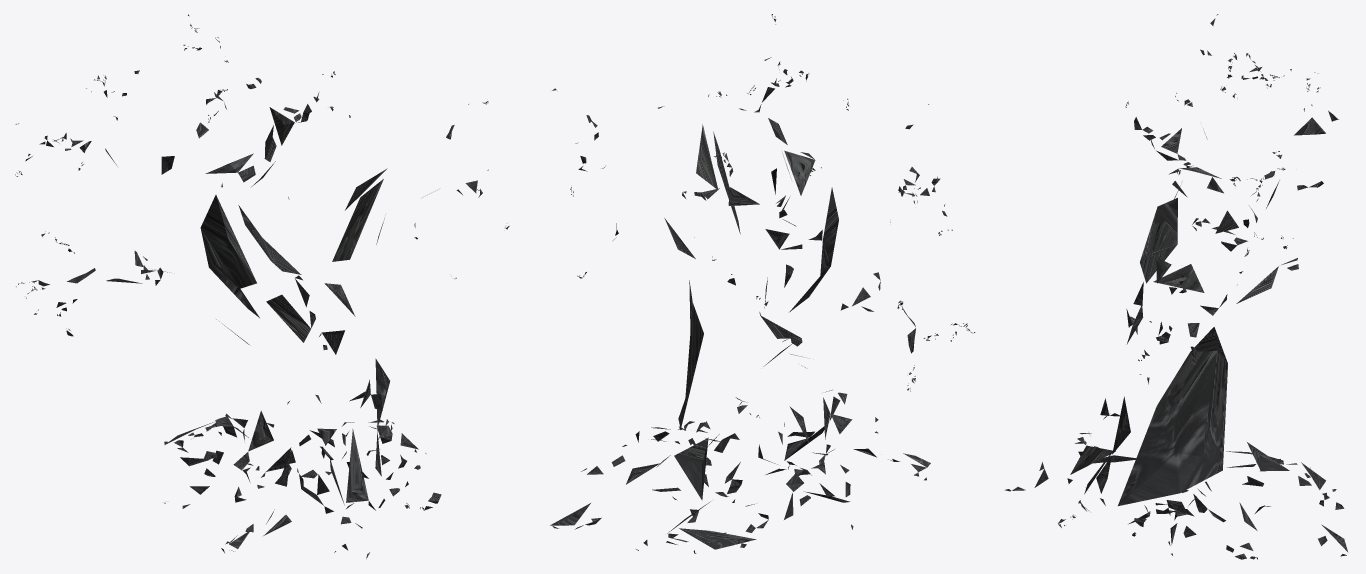
File: dead-tree.glb
The picture shows the model from 3 angles, left to right: view 1: azimuth 30°, elevation 25°; view 2: azimuth 150°, elevation 25°; view 3: azimuth 270°, elevation 25°; orthographic projection. The views are drawn at different scales.
Parts seen in each view (by area): view 1: mesh; view 2: mesh; view 3: mesh.
Part boxes in pixels (left/top/right/bottom): mesh: left=15, top=14, right=509, bottom=558; mesh: left=550, top=14, right=975, bottom=553; mesh: left=1004, top=14, right=1348, bottom=559.
Size of the model in its own units: 1.76 by 1.65 by 1.25.
1 material, 1 textured.
